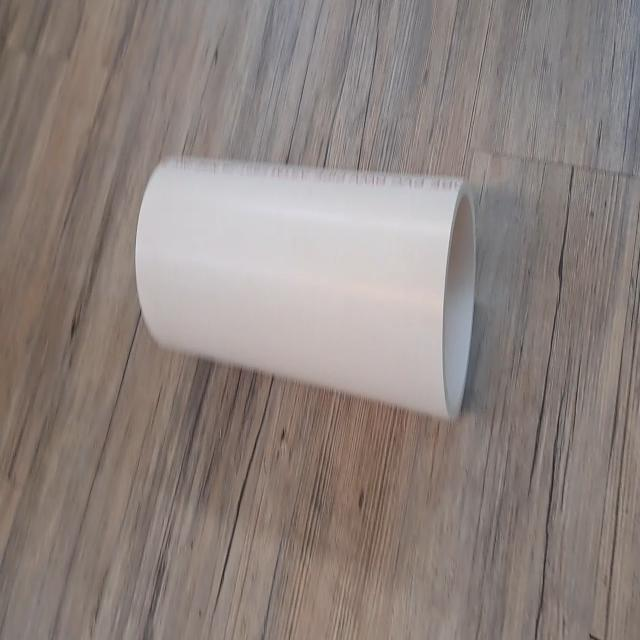CORAL: (129, 141, 481, 445)
